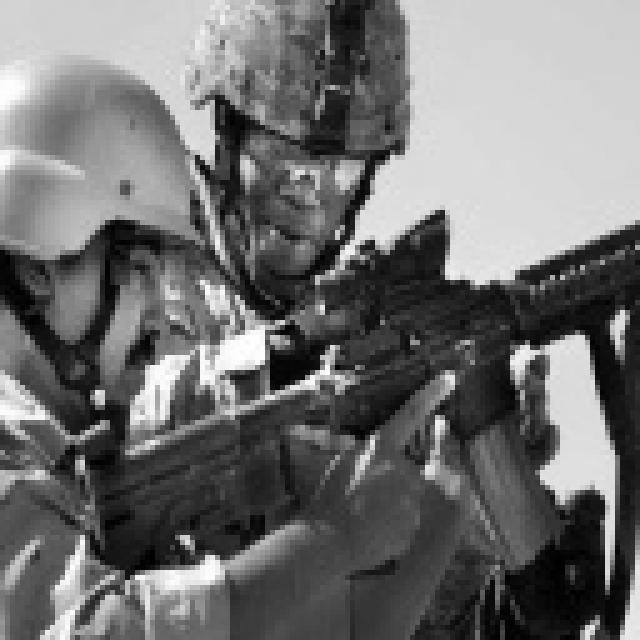Rifle: (60, 170, 640, 640)
